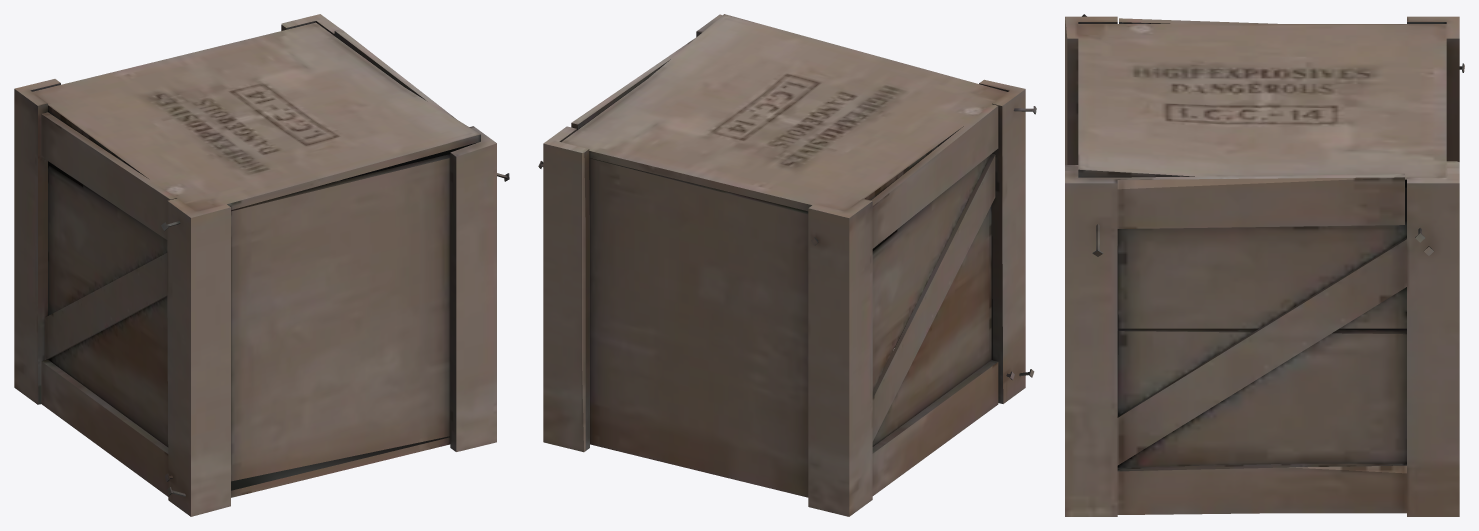
The picture shows the model from 3 angles, left to right: view 1: azimuth 30°, elevation 25°; view 2: azimuth 150°, elevation 25°; view 3: azimuth 270°, elevation 25°; orthographic projection. The views are drawn at different scales.
Parts seen in each view (by area): view 1: body0_model0_lod0_mesh0; view 2: body0_model0_lod0_mesh0; view 3: body0_model0_lod0_mesh0.
Boxes of the visible parts, x1,y1,x2,y2 form: body0_model0_lod0_mesh0: (14,14,509,516); body0_model0_lod0_mesh0: (538,14,1036,516); body0_model0_lod0_mesh0: (1065,14,1464,516).
Bounding box in the file's own units: 51.76 × 43 × 45.59.
1 material, 1 textured.
